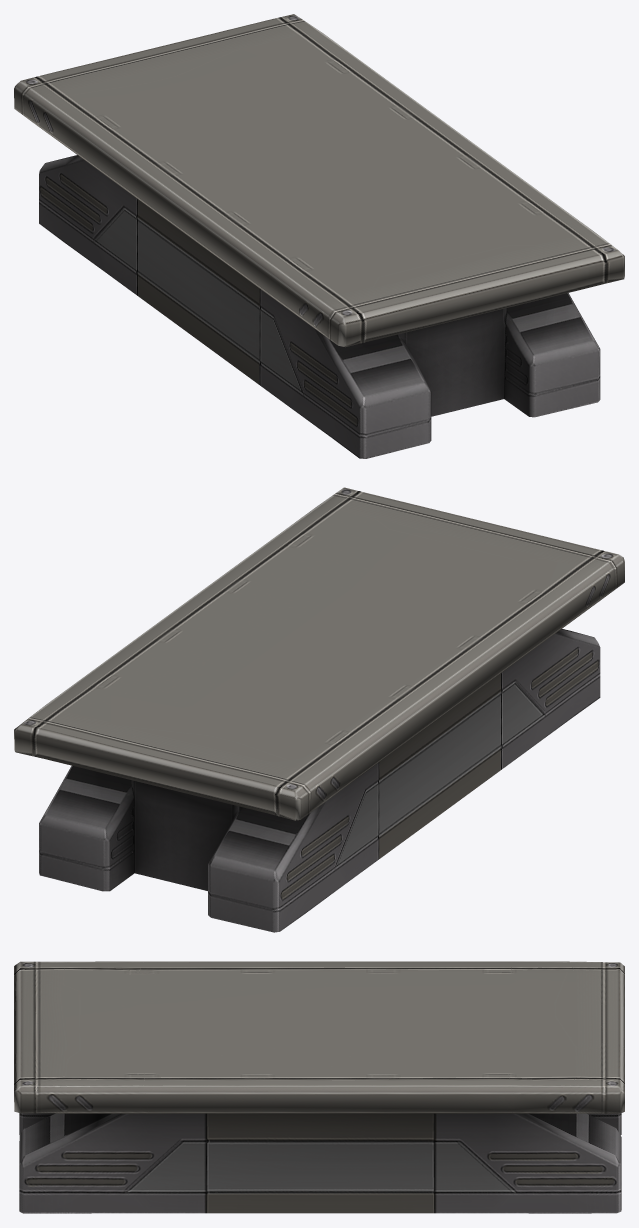
Rendered from Table.fbx.
The picture shows the model from 3 angles, top to bottom: view 1: azimuth 30°, elevation 25°; view 2: azimuth 150°, elevation 25°; view 3: azimuth 270°, elevation 25°; orthographic projection. The views are drawn at different scales.
Parts seen in each view (by area): view 1: Low_table:RetopoGroup1; view 2: Low_table:RetopoGroup1; view 3: Low_table:RetopoGroup1.
Part boxes in pixels (box(x1,y1,x2,y2)): Low_table:RetopoGroup1: box(14, 14, 624, 458); Low_table:RetopoGroup1: box(14, 487, 624, 932); Low_table:RetopoGroup1: box(14, 961, 624, 1213).
Bounding box in the file's own units: 202 × 98.43 × 401.
